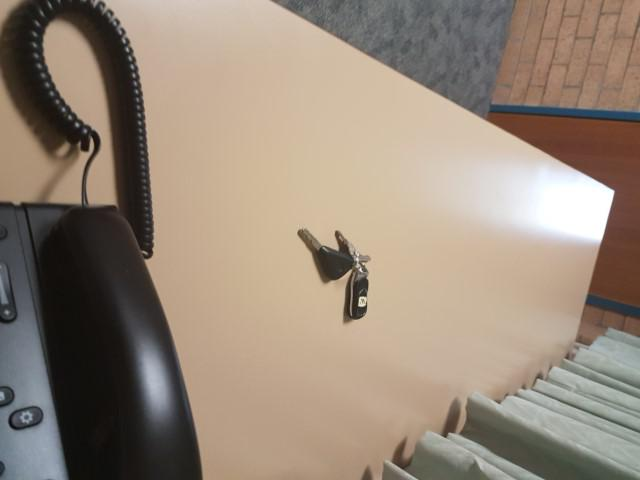key: (298, 225, 355, 283)
